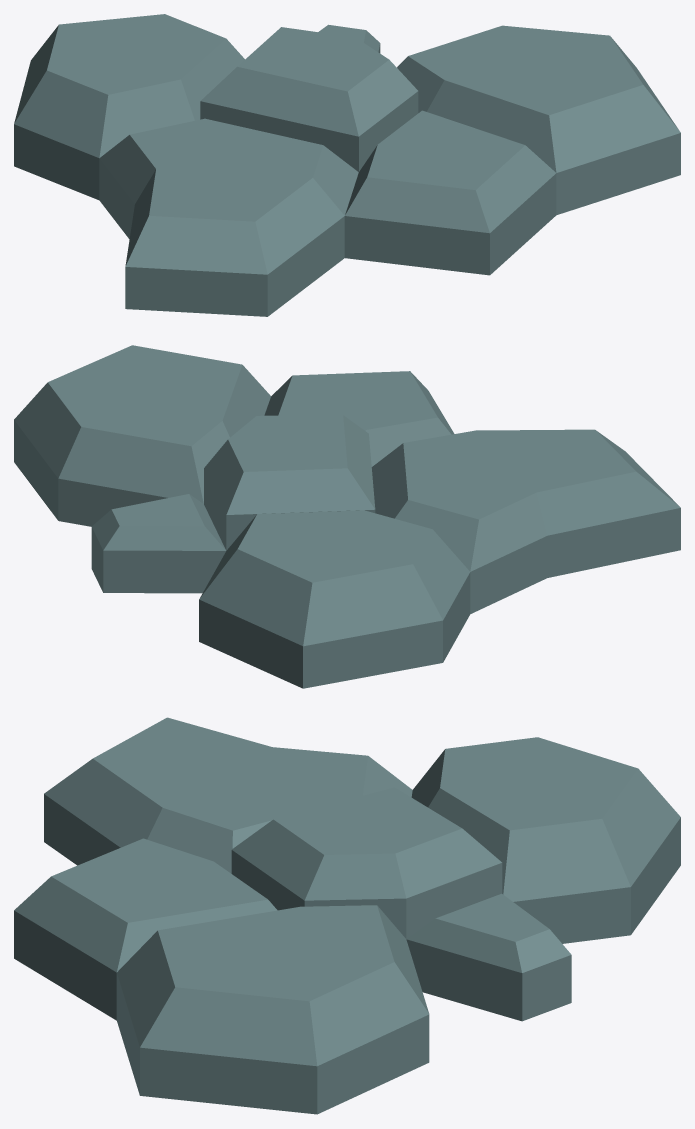
Rendered from brigesRock_Type4_02_mesh_001.fbx.
The picture shows the model from 3 angles, top to bottom: view 1: azimuth 30°, elevation 25°; view 2: azimuth 150°, elevation 25°; view 3: azimuth 270°, elevation 25°; orthographic projection. The views are drawn at different scales.
Visible parts, largest first — view 1: Rock Type4 02 mesh.001; view 2: Rock Type4 02 mesh.001; view 3: Rock Type4 02 mesh.001.
Part boxes in pixels (x1=…): Rock Type4 02 mesh.001: x1=14, y1=14, x2=680, y2=316; Rock Type4 02 mesh.001: x1=14, y1=345, x2=680, y2=688; Rock Type4 02 mesh.001: x1=14, y1=717, x2=680, y2=1114.
Size of the model in its own units: 280 by 49.04 by 241.
